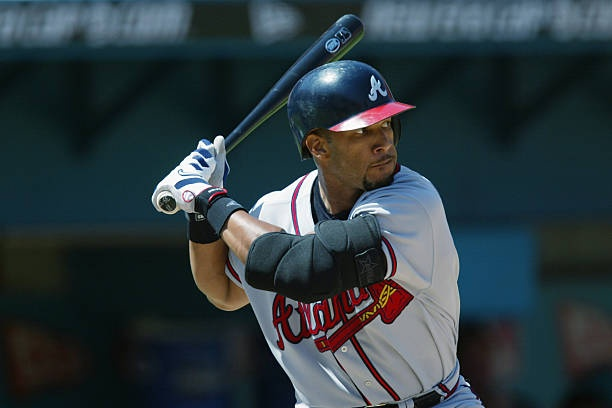bita: (212, 13, 363, 151)
